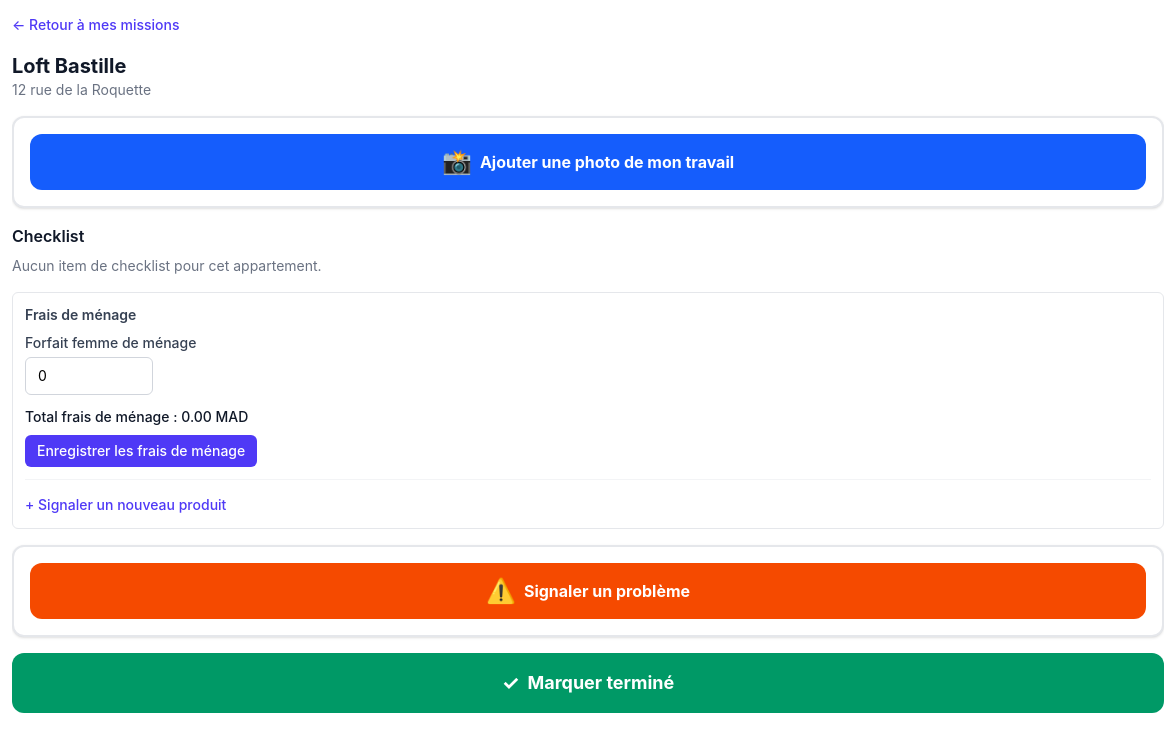
Test: MissionDetailAgent › permet de marquer terminé une mission sans aucun item de checklist
expect the heading "Loft Bastille" is shown: met, box [12, 54, 126, 78]
Click the button "✓ Marquer terminé" at (588, 683), box [12, 653, 1164, 713]
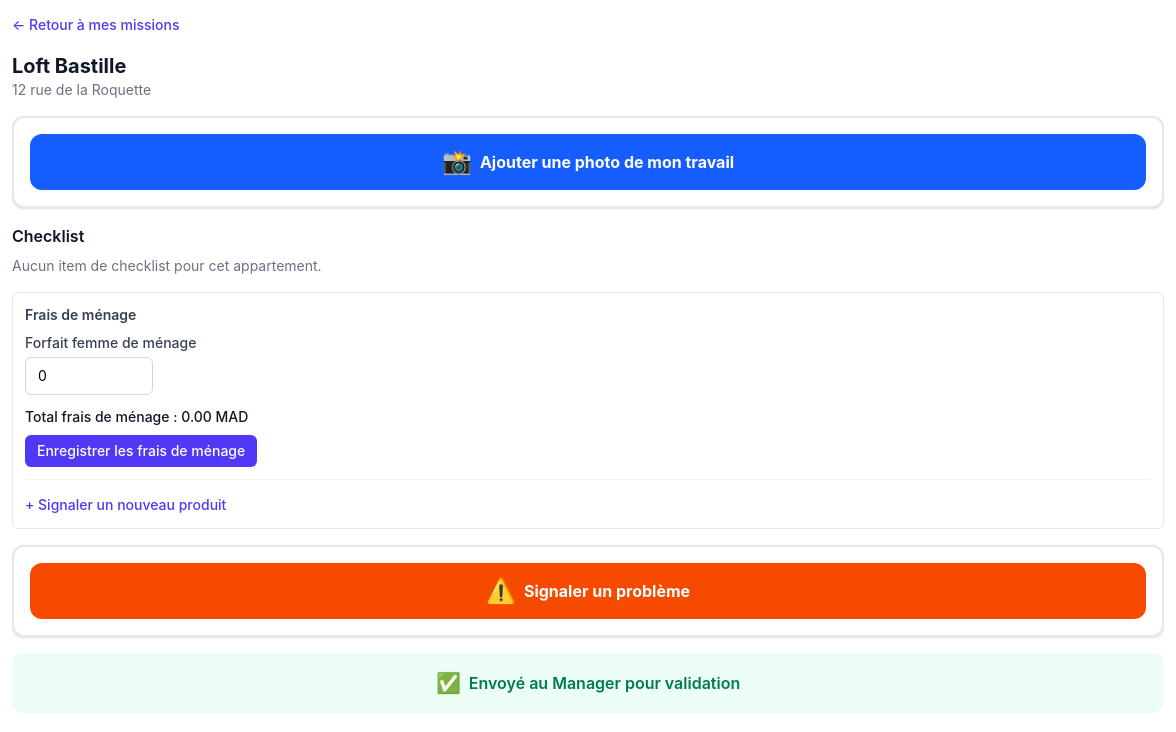
expect the text "✅ Envoyé au Manager pour validation" is shown: met, box [12, 653, 1164, 713]
